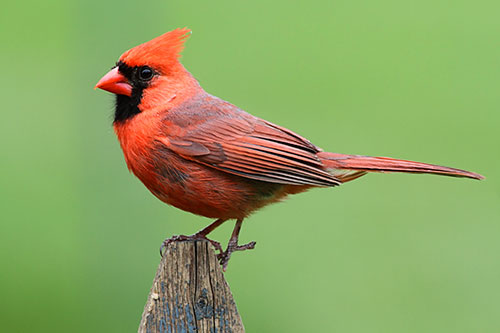bird: (105, 36, 455, 239)
